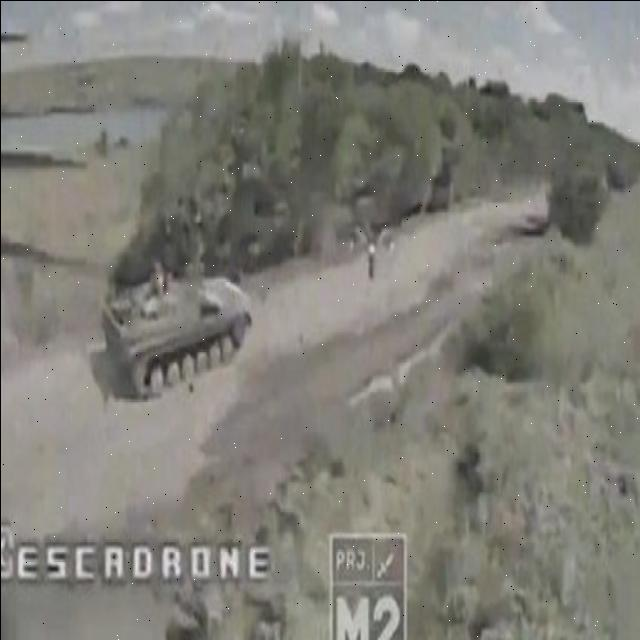APC-IFV: (91, 248, 252, 384)
